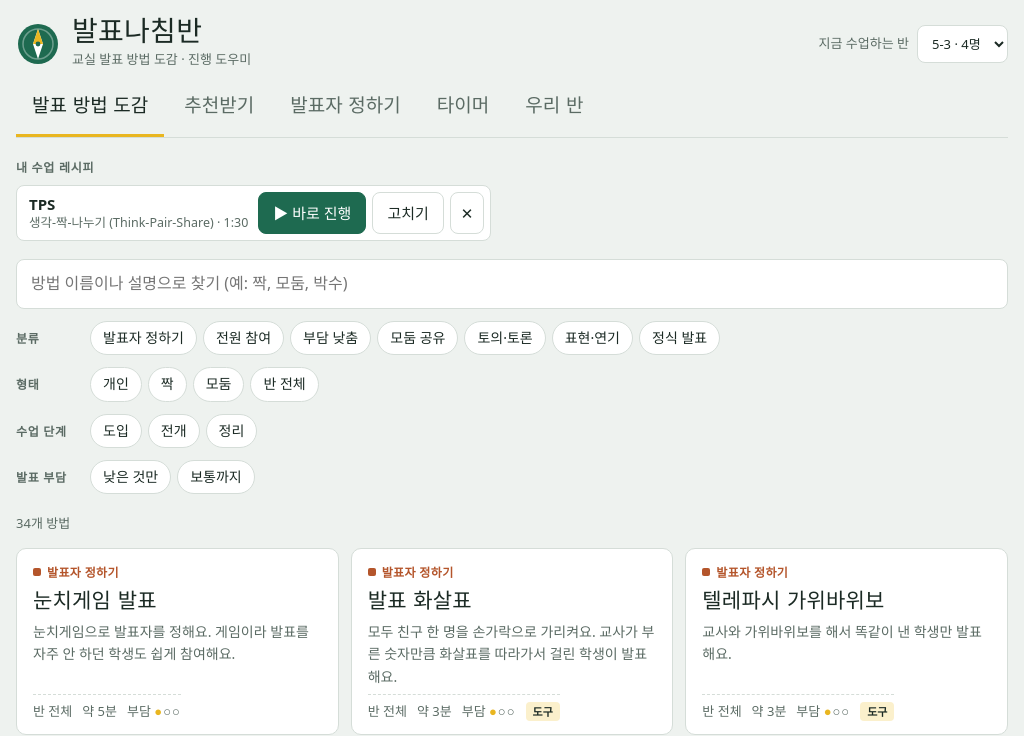
Test: 진행 화면 › 멈춤·계속, 시간 더하기·빼기
The width and height of the screenshot is (1024, 736).
Step 1. Click the button "▶ 바로 진행" → (312,213), box left=258, top=192, right=366, bottom=234
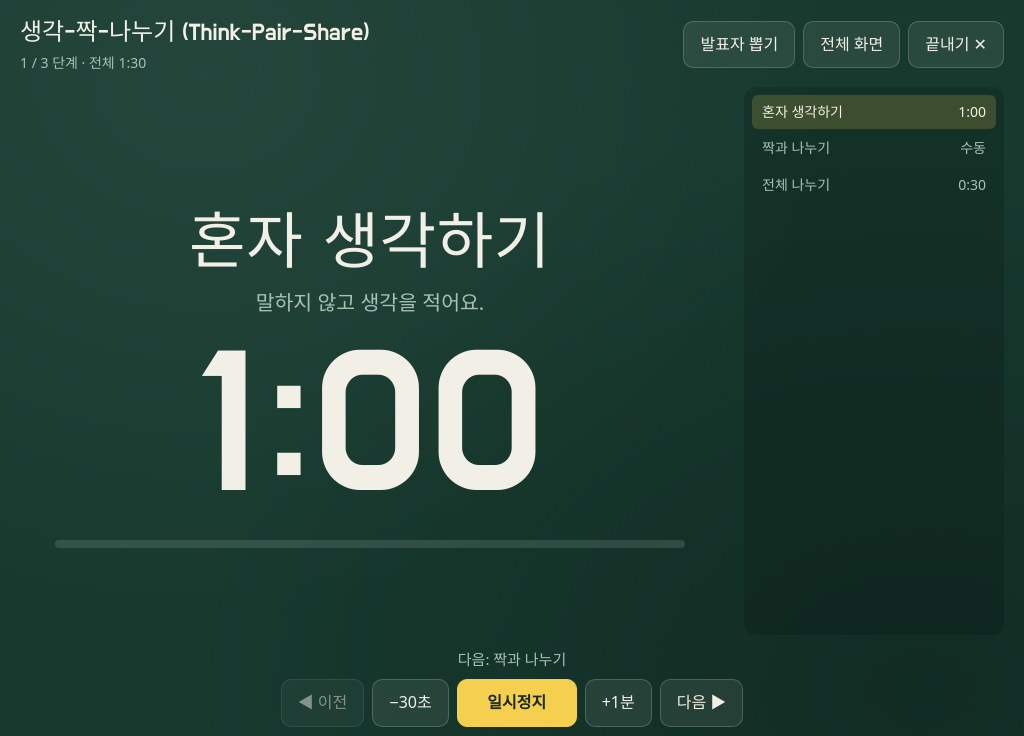
Step 2. Click the button "일시정지" → (517,703), box left=457, top=679, right=577, bottom=727
Wait 20000 ms
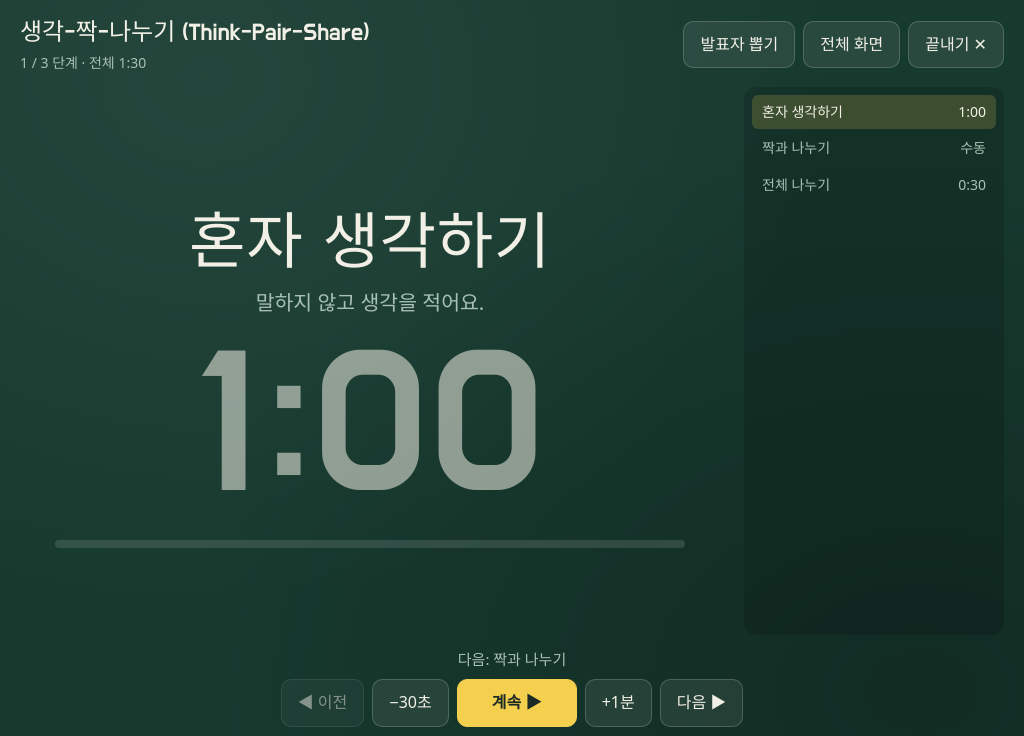
Check: the text "1:00" below "말하지 않고 생각을 적어요." is shown, box left=192, top=326, right=548, bottom=531
Step 3. Click the button "계속 ▶" → (517,703), box left=457, top=679, right=577, bottom=727
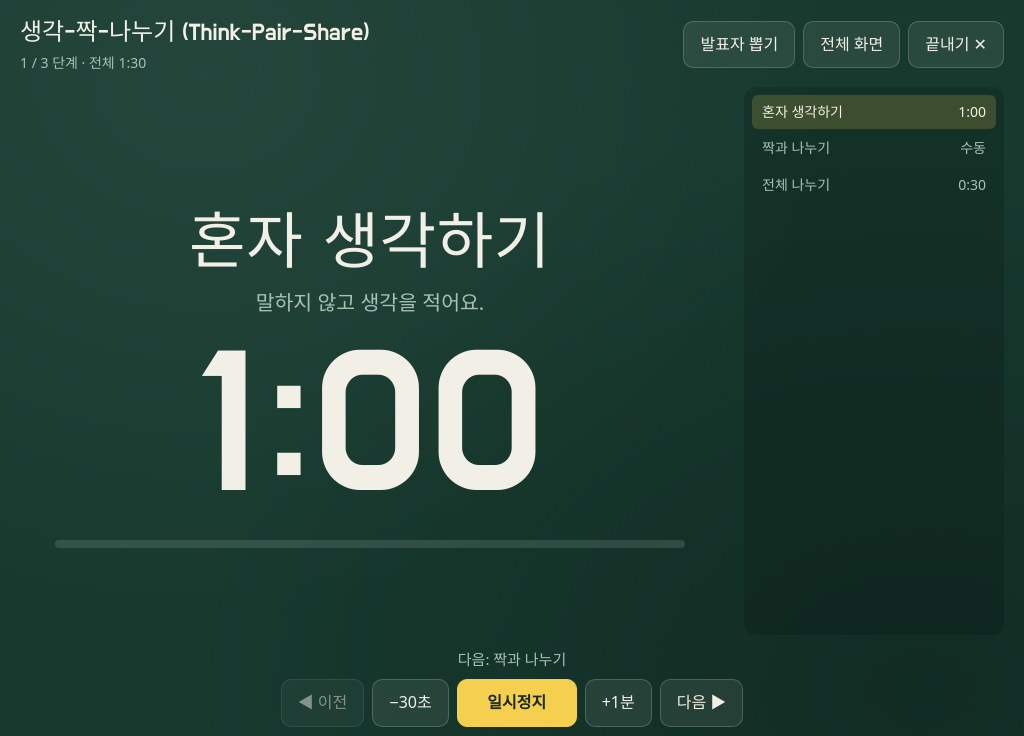
Step 4. Click the button "+1분" → (618,703), box left=585, top=679, right=652, bottom=727
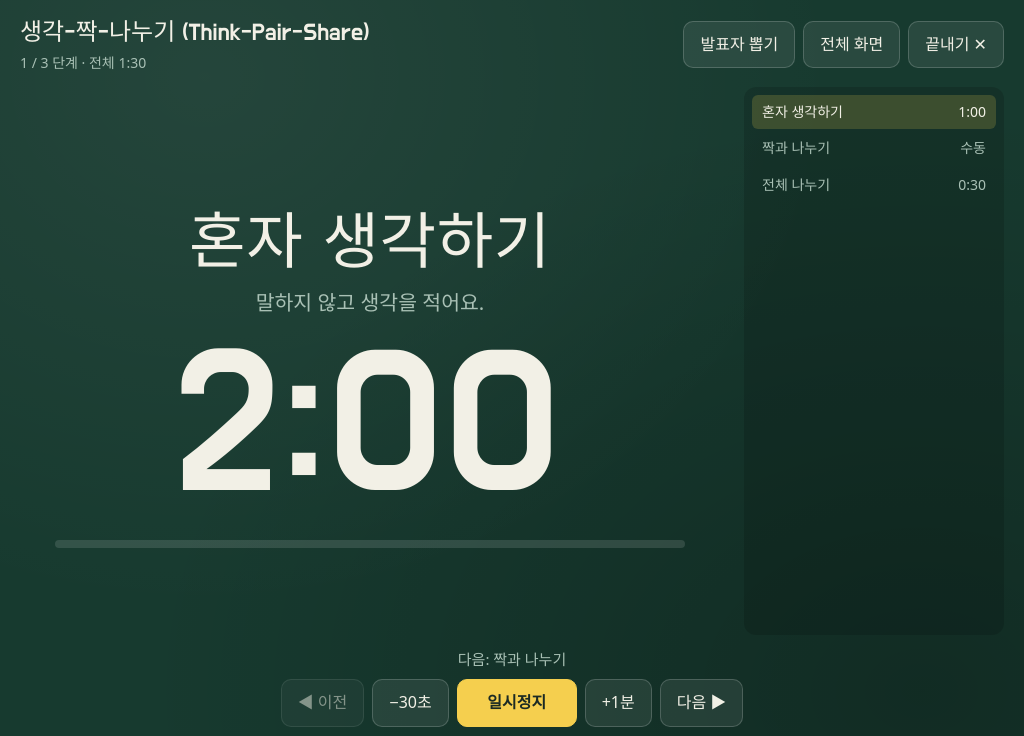
Check: the text "2:00" is shown, box left=177, top=327, right=563, bottom=532
Step 5. Click the button "−30초" → (410,703), box left=372, top=679, right=449, bottom=727
Wait 400 ms
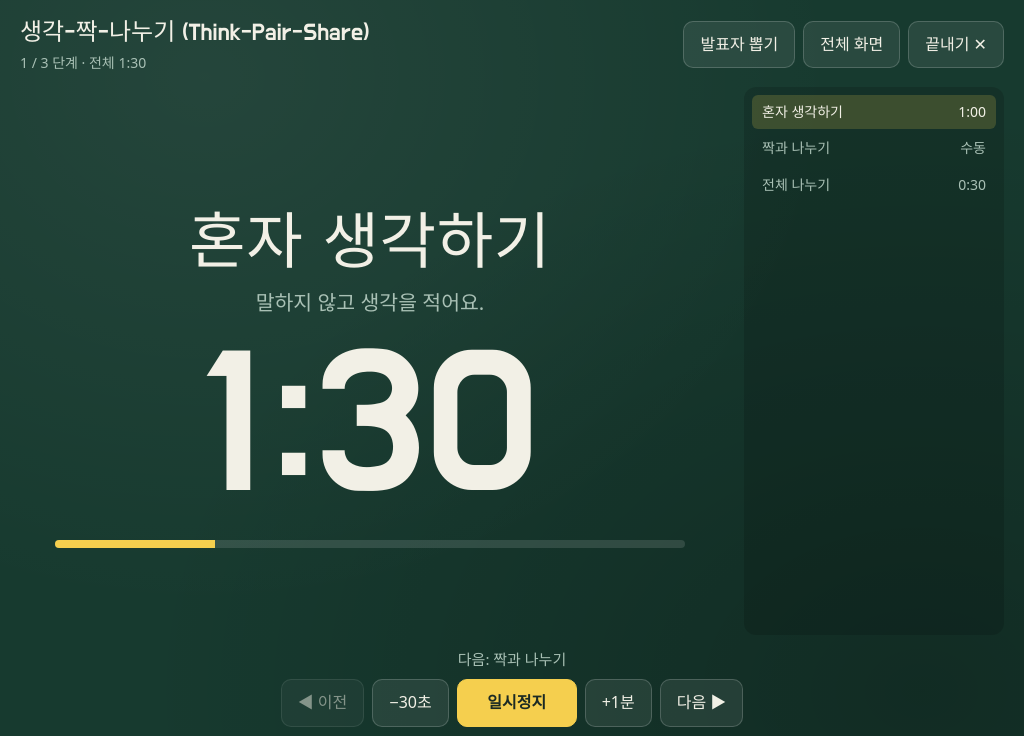
Check: the text "1:30" is shown, box left=197, top=327, right=543, bottom=532
